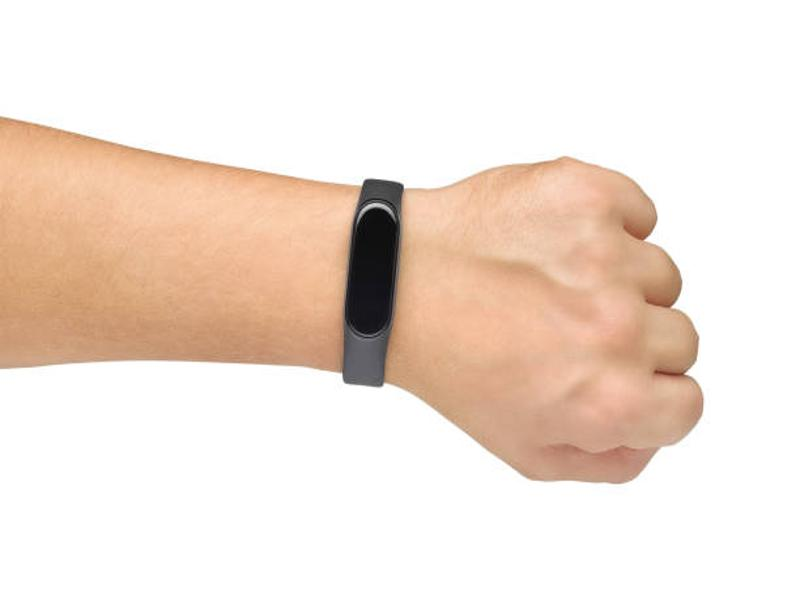watch: (337, 176, 408, 390)
